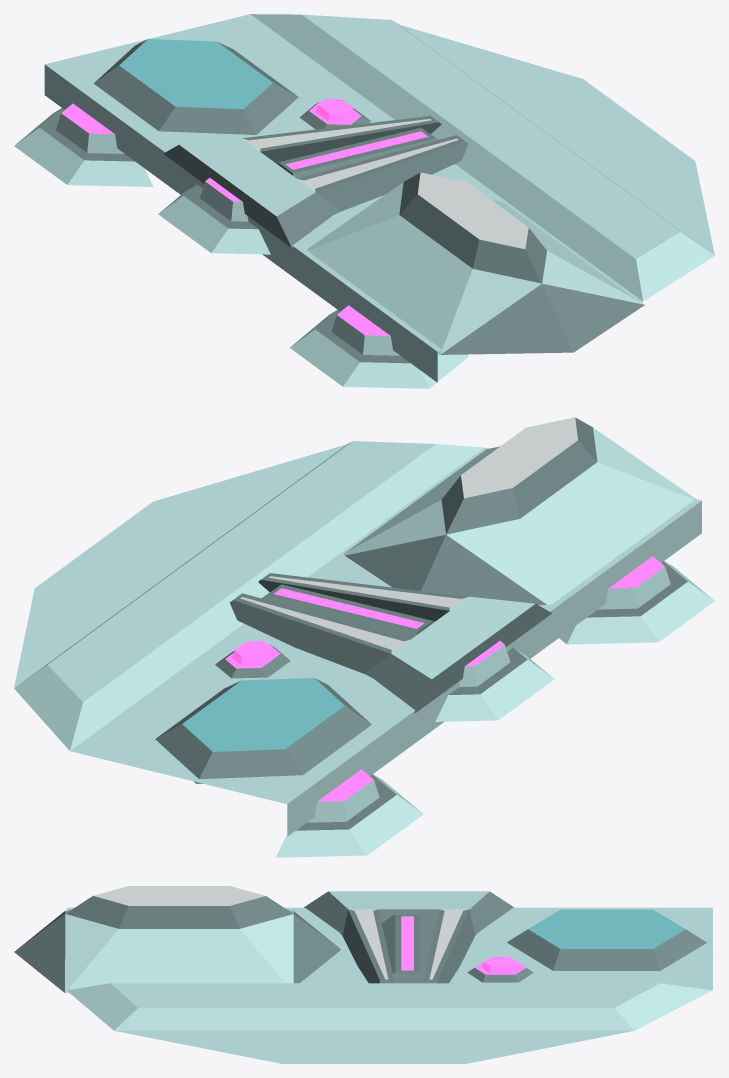
Rendered from porte_blanche_salle01.fbx.
The picture shows the model from 3 angles, top to bottom: view 1: azimuth 30°, elevation 25°; view 2: azimuth 150°, elevation 25°; view 3: azimuth 270°, elevation 25°; orthographic projection. The views are drawn at different scales.
Visible parts, largest first — view 1: Porte_droite.001; view 2: Porte_droite.001; view 3: Porte_droite.001.
Boxes of the visible parts, x1,y1,x2,y2 form: Porte_droite.001: (14, 14, 714, 388); Porte_droite.001: (14, 417, 714, 857); Porte_droite.001: (14, 886, 712, 1063).
Bounding box in the file's own units: 153 × 38.86 × 256.
